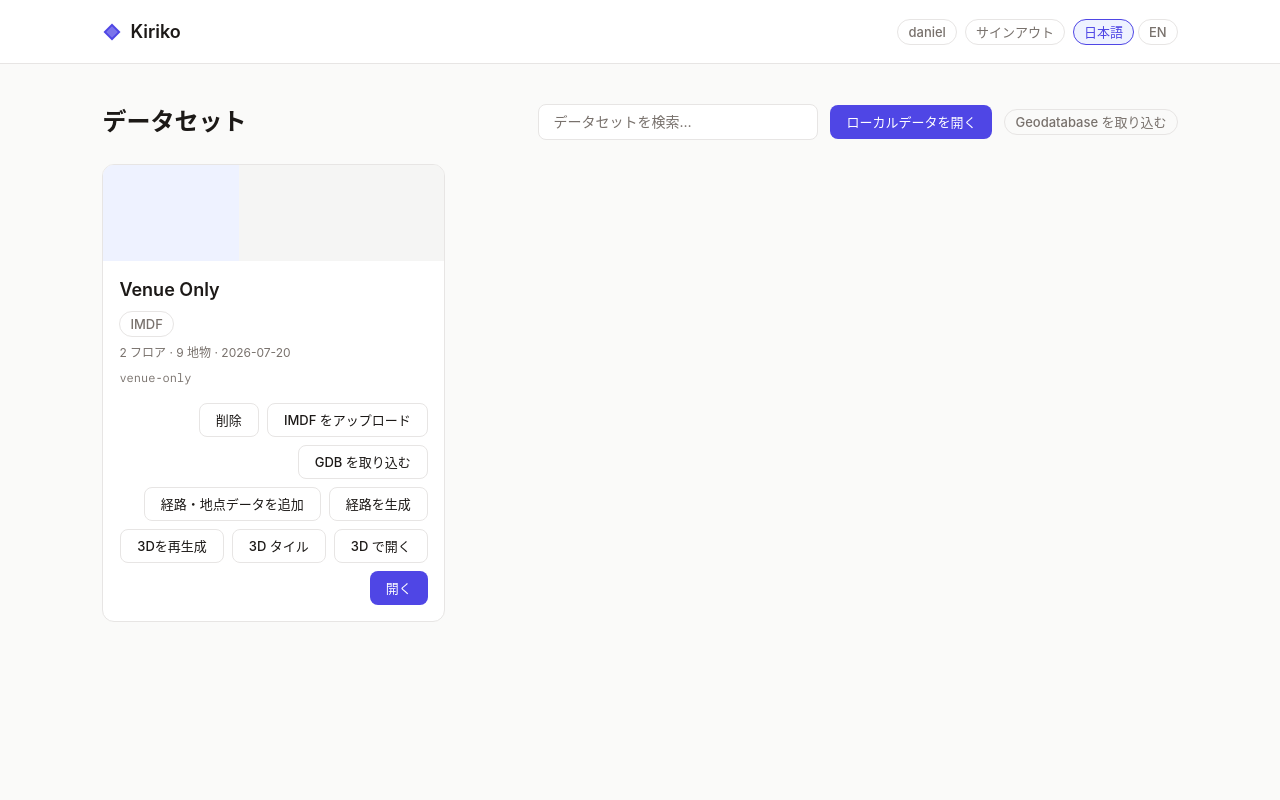
Test: GalleryPage generate routing › replaces progress with the completion notice when the job finishes
Expected: the heading "Venue Only" is shown, [119, 279, 220, 300]
Click the button "EN" at (1158, 32), box [1138, 18, 1178, 44]
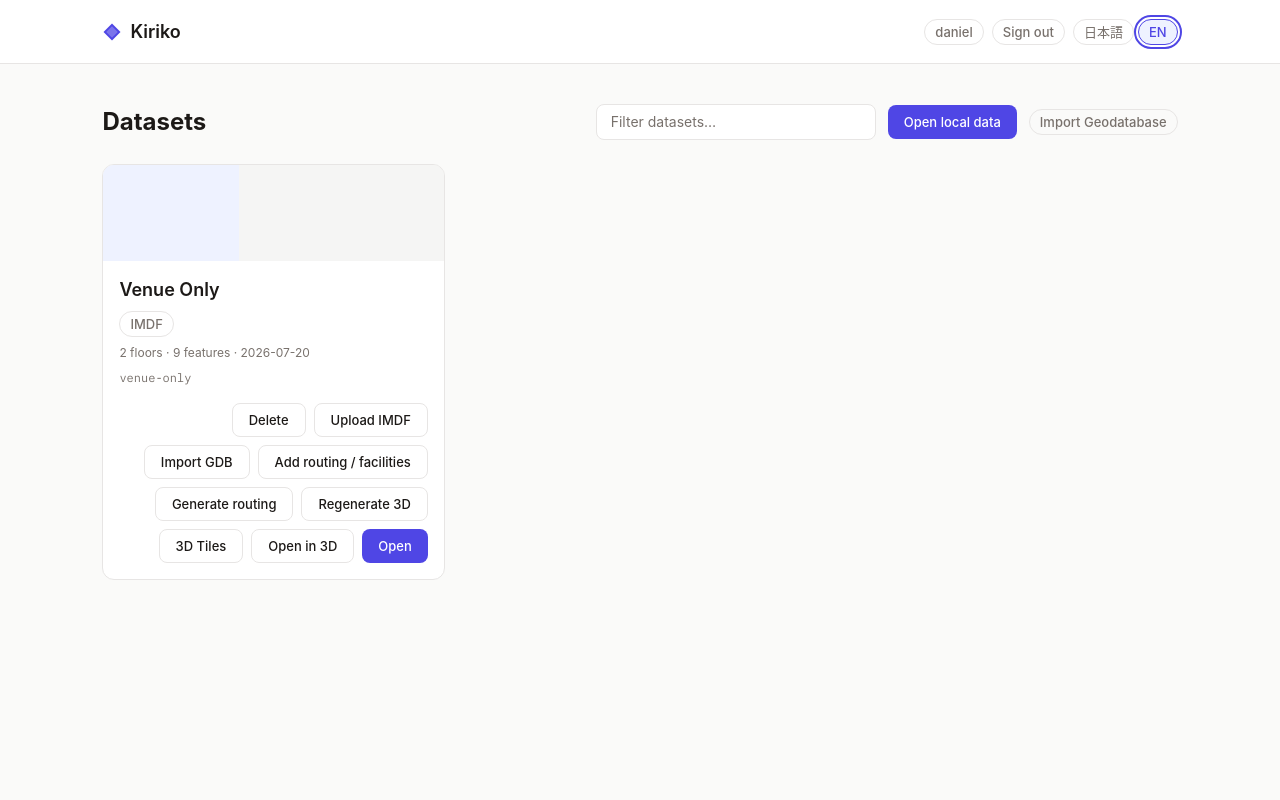
Click the button "Generate routing" at (224, 504), box [155, 487, 294, 521]
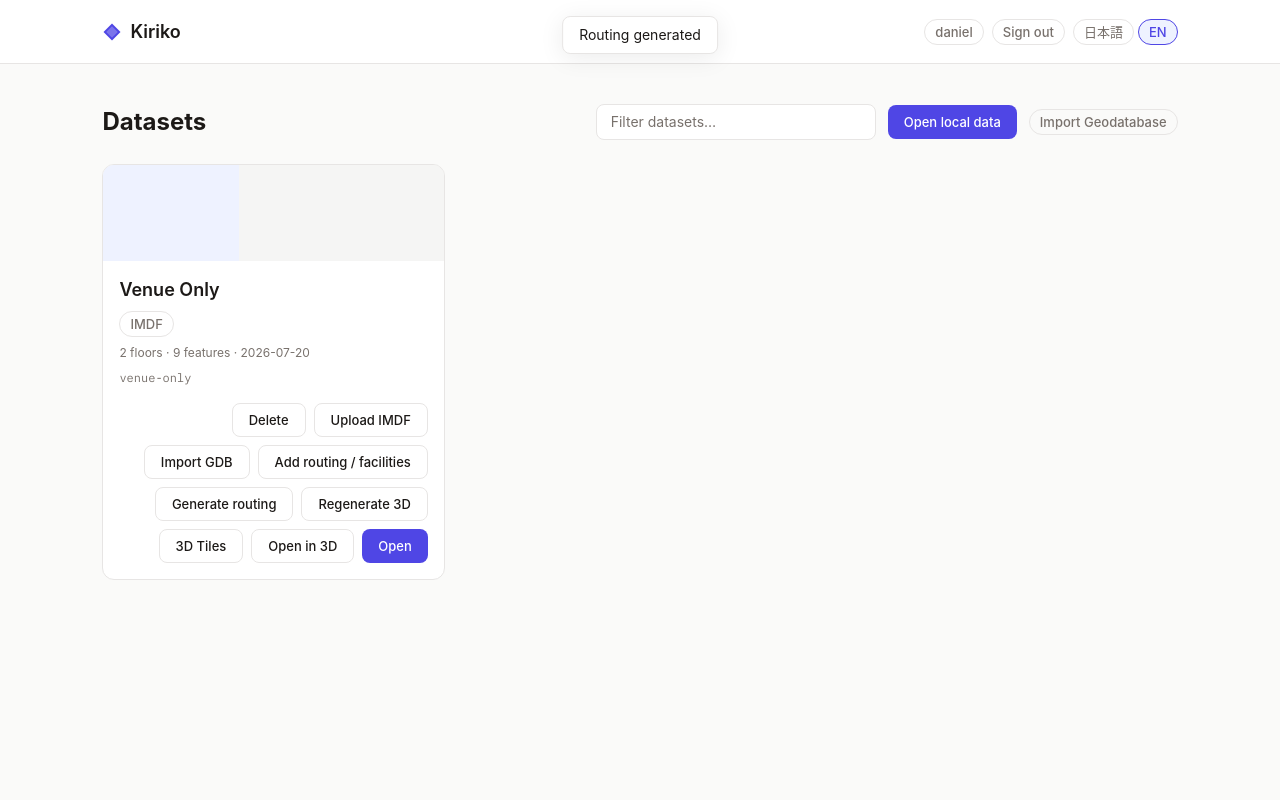
Result: the message reads "Routing generated" at [579, 26, 701, 43]
